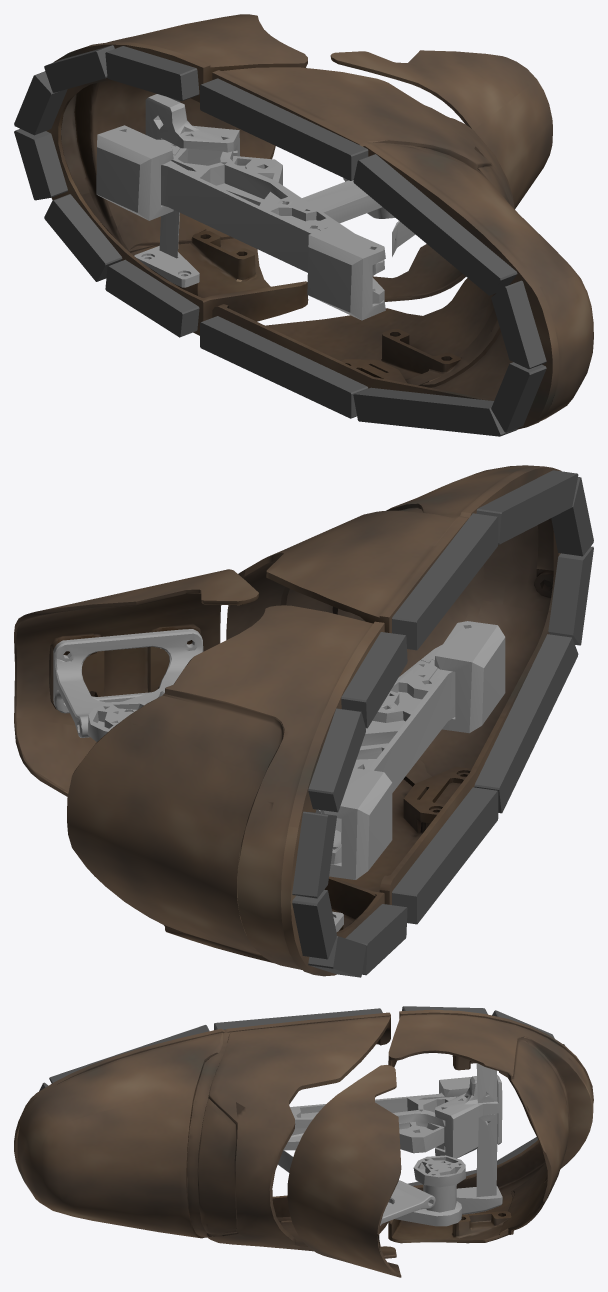
The model's file is foot_r.dae.
The picture shows the model from 3 angles, top to bottom: view 1: azimuth 30°, elevation 25°; view 2: azimuth 150°, elevation 25°; view 3: azimuth 270°, elevation 25°; orthographic projection. The views are drawn at different scales.
Visible parts, largest first — view 1: foot_r.012; view 2: foot_r.012; view 3: foot_r.012.
Part boxes in pixels (x1,y1,x2,y2): foot_r.012: (14,14,593,436); foot_r.012: (14,465,593,977); foot_r.012: (14,1006,593,1277).
Bounding box in the file's own units: 0.2036 × 0.339 × 0.1313.
Materials: 3 (1 with a texture image).
